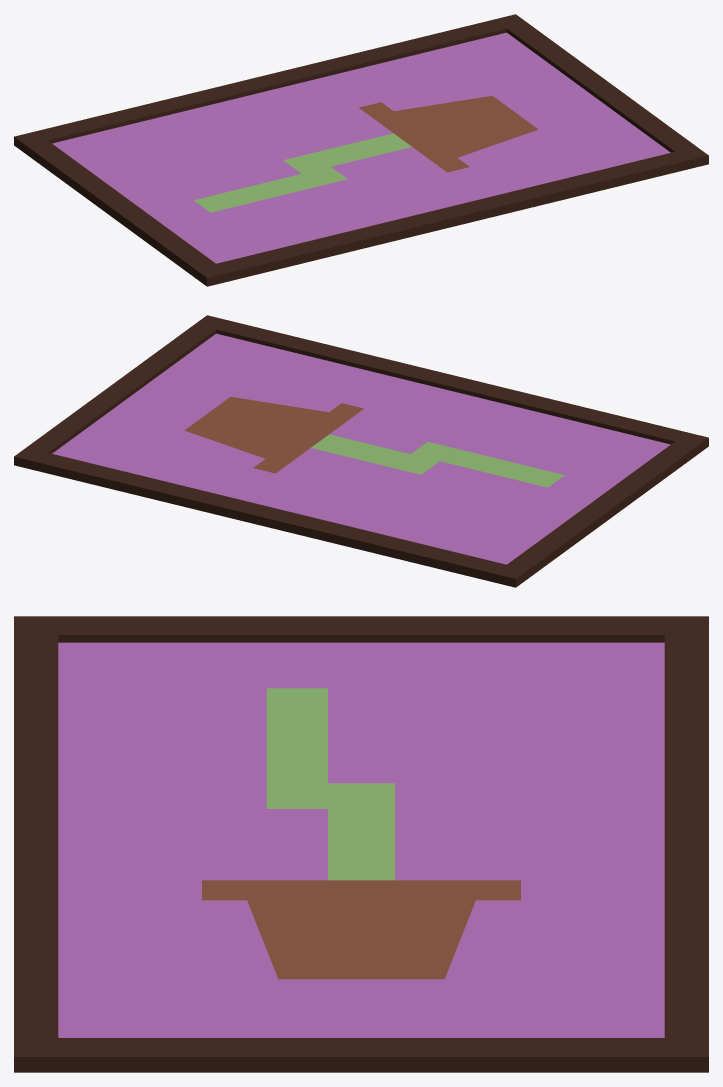
Rendered from SM_Int_WallPainting01_1_c.obj.
3 views of the same model, one above another, from view 1: azimuth 30°, elevation 25°; view 2: azimuth 150°, elevation 25°; view 3: azimuth 270°, elevation 25° (orthographic). The views are drawn at different scales.
Visible parts, largest first — view 1: SM_Int_WallPainting01_1_c_MI_AtlasSchool01A; view 2: SM_Int_WallPainting01_1_c_MI_AtlasSchool01A; view 3: SM_Int_WallPainting01_1_c_MI_AtlasSchool01A.
Part boxes in pixels (x1,y1,x2,y2): SM_Int_WallPainting01_1_c_MI_AtlasSchool01A: (14,14,708,286); SM_Int_WallPainting01_1_c_MI_AtlasSchool01A: (14,315,708,587); SM_Int_WallPainting01_1_c_MI_AtlasSchool01A: (14,616,708,1072).
Size of the model in its own units: 1.5 by 0.025 by 1.
Materials: 1 (1 with a texture image).
